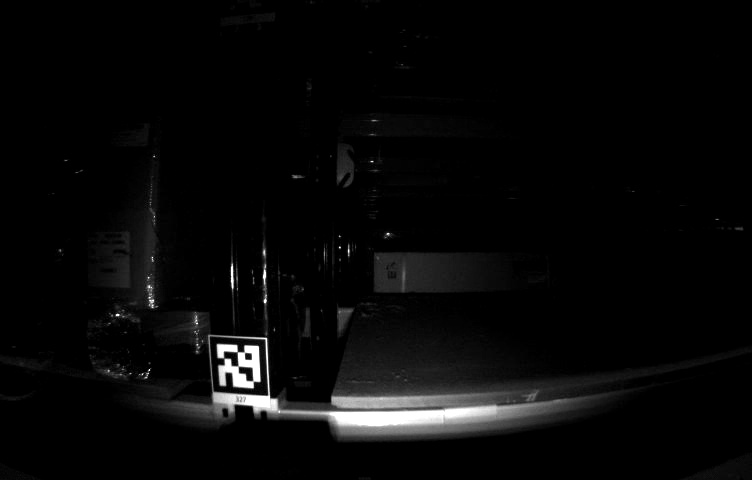True Barcode: (79, 230, 134, 291)
